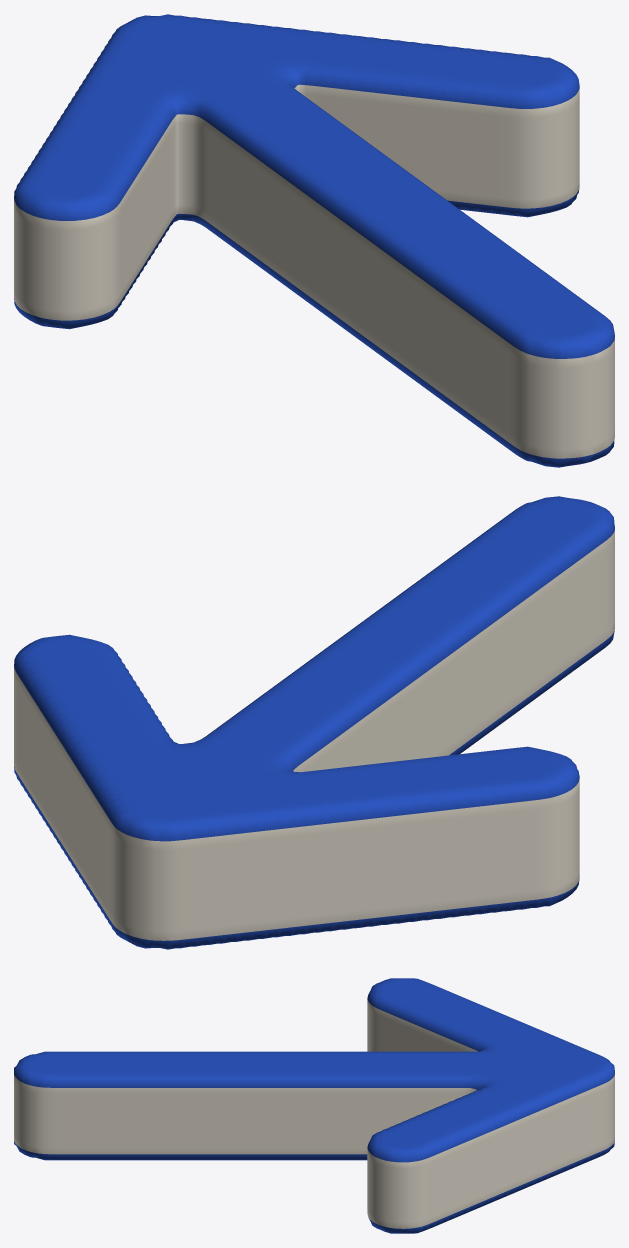
The model's file is arrow.fbx.
The picture shows the model from 3 angles, top to bottom: view 1: azimuth 30°, elevation 25°; view 2: azimuth 150°, elevation 25°; view 3: azimuth 270°, elevation 25°; orthographic projection. The views are drawn at different scales.
Parts seen in each view (by area): view 1: Curve.002; view 2: Curve.002; view 3: Curve.002.
Part boxes in pixels (left/top/right/bottom): Curve.002: left=14, top=14, right=614, bottom=467; Curve.002: left=14, top=496, right=614, bottom=949; Curve.002: left=14, top=978, right=614, bottom=1233.
Size of the model in its own units: 637 by 139 by 902.
